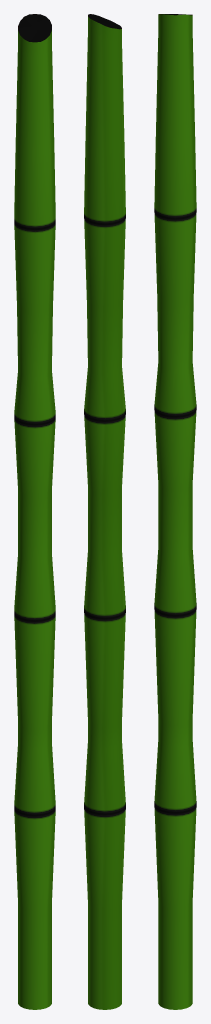
File: ENV_BAMBOO.FBX
3 renders of one model, left to right at view 1: azimuth 90°, elevation 25°; view 2: azimuth 210°, elevation 25°; view 3: azimuth 270°, elevation 25°, orthographic.
Visible parts, largest first — view 1: Cylinder001; view 2: Cylinder001; view 3: Cylinder001.
Part boxes in pixels (bbox=[...]): Cylinder001: bbox=[14, 14, 55, 1009]; Cylinder001: bbox=[84, 14, 125, 1009]; Cylinder001: bbox=[154, 14, 196, 1009].
Size of the model in its own units: 4.85 by 124 by 4.78.
Materials: 1 (1 with a texture image).
